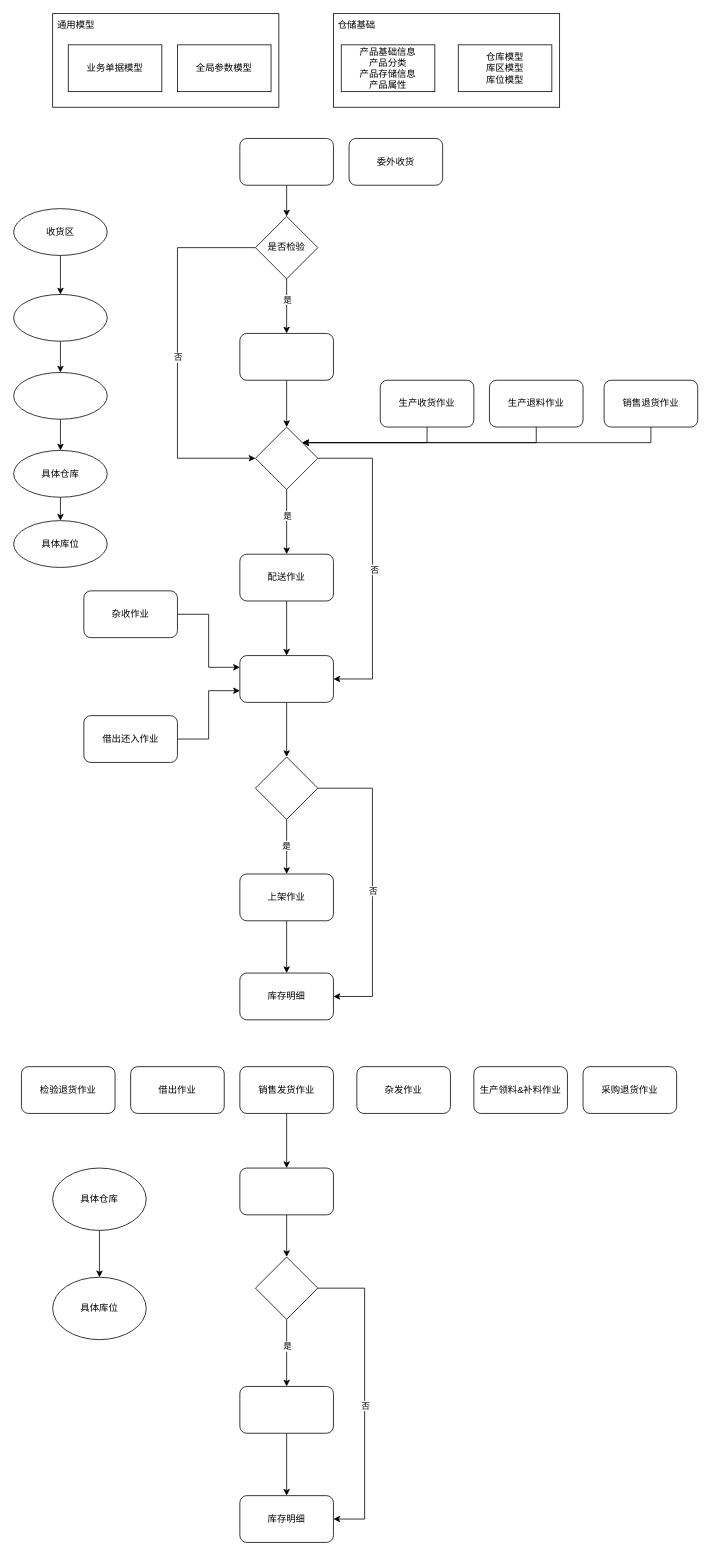
Image size: 711x1556. Some labels were removed from this diagram. Each missing label, with the box of its shape:
ASN单: (239, 138, 333, 185)
下架作业: (239, 1386, 333, 1433)
入库汇总: (239, 655, 333, 702)
出库单汇总: (239, 1167, 333, 1215)
是否上架: (255, 756, 318, 819)
是否下架: (255, 1256, 318, 1319)
是否配送: (255, 426, 318, 489)
检验作业: (239, 333, 333, 380)
检验区: (13, 294, 107, 341)
配送区: (13, 372, 107, 419)
